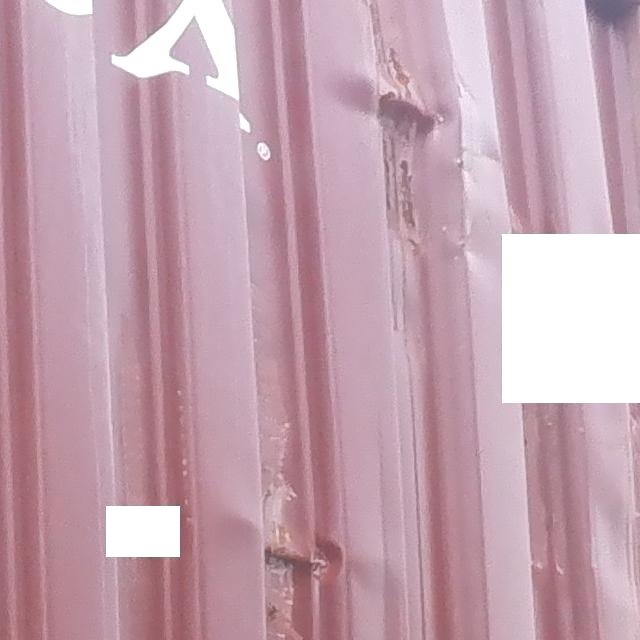Dent: (317, 48, 530, 249), (225, 496, 399, 640)
Rusty: (383, 142, 426, 231), (263, 534, 348, 577), (378, 90, 445, 136)
